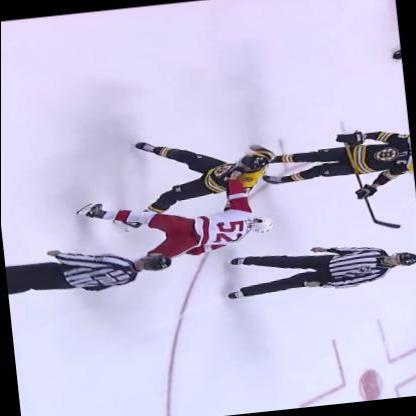non-Voilence: (215, 232, 416, 304)
voilence: (80, 128, 283, 271)
